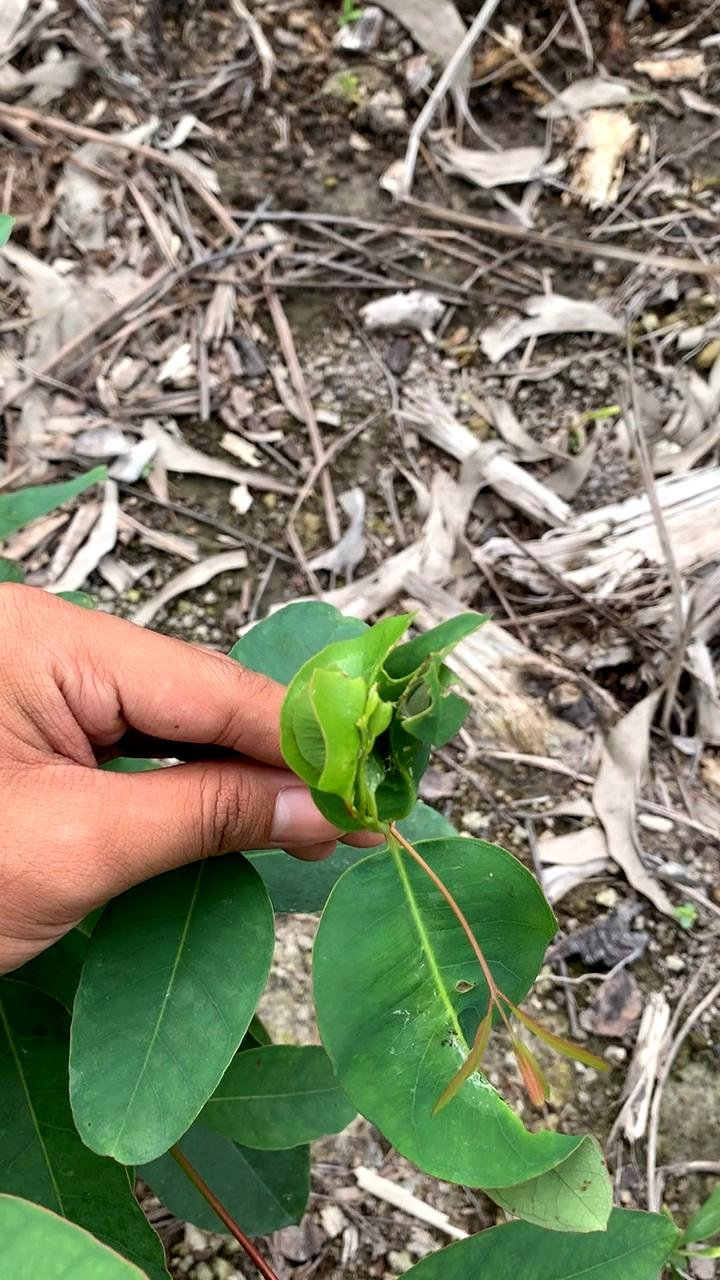Leaf Roller - Leaf: (296, 618, 477, 837)
